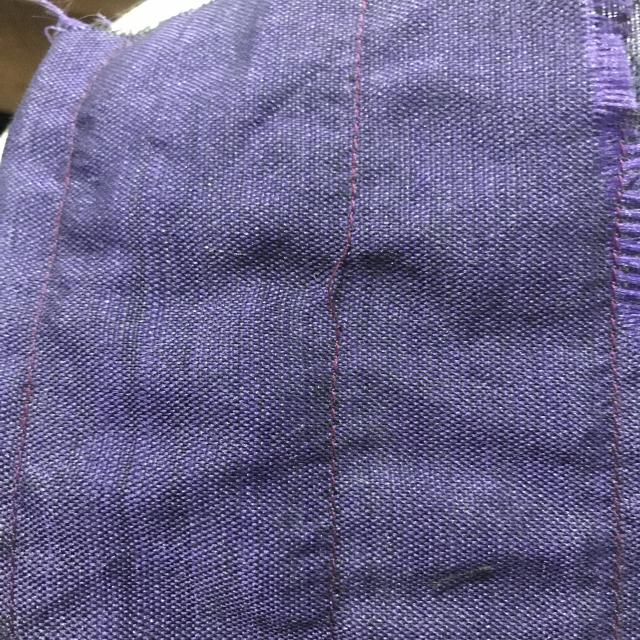good: (326, 376, 351, 487)
skip: (306, 230, 373, 346)
